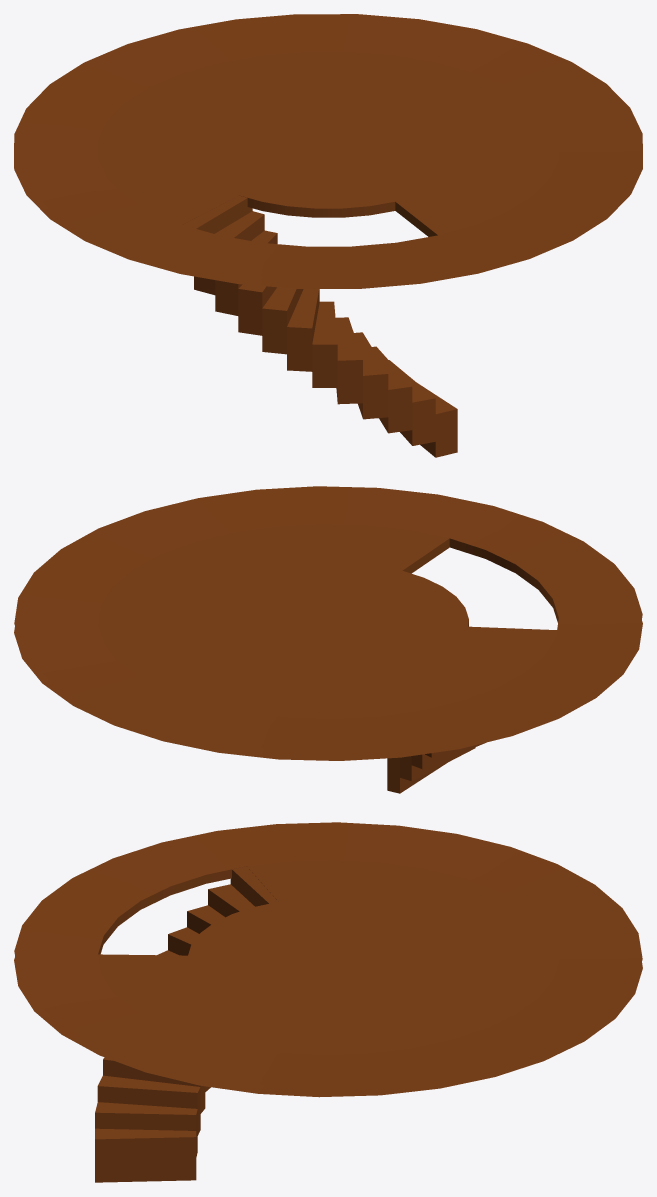
Rendered from stairs.fbx.
The picture shows the model from 3 angles, top to bottom: view 1: azimuth 30°, elevation 25°; view 2: azimuth 150°, elevation 25°; view 3: azimuth 270°, elevation 25°; orthographic projection.
Visible parts, largest first — view 1: Cube.014; view 2: Cube.014; view 3: Cube.014.
Boxes of the visible parts, <box> form: Cube.014: <box>14,14,642,457</box>; Cube.014: <box>14,486,642,793</box>; Cube.014: <box>14,822,642,1182</box>.
Bounding box in the file's own units: 745 × 290 × 745.
